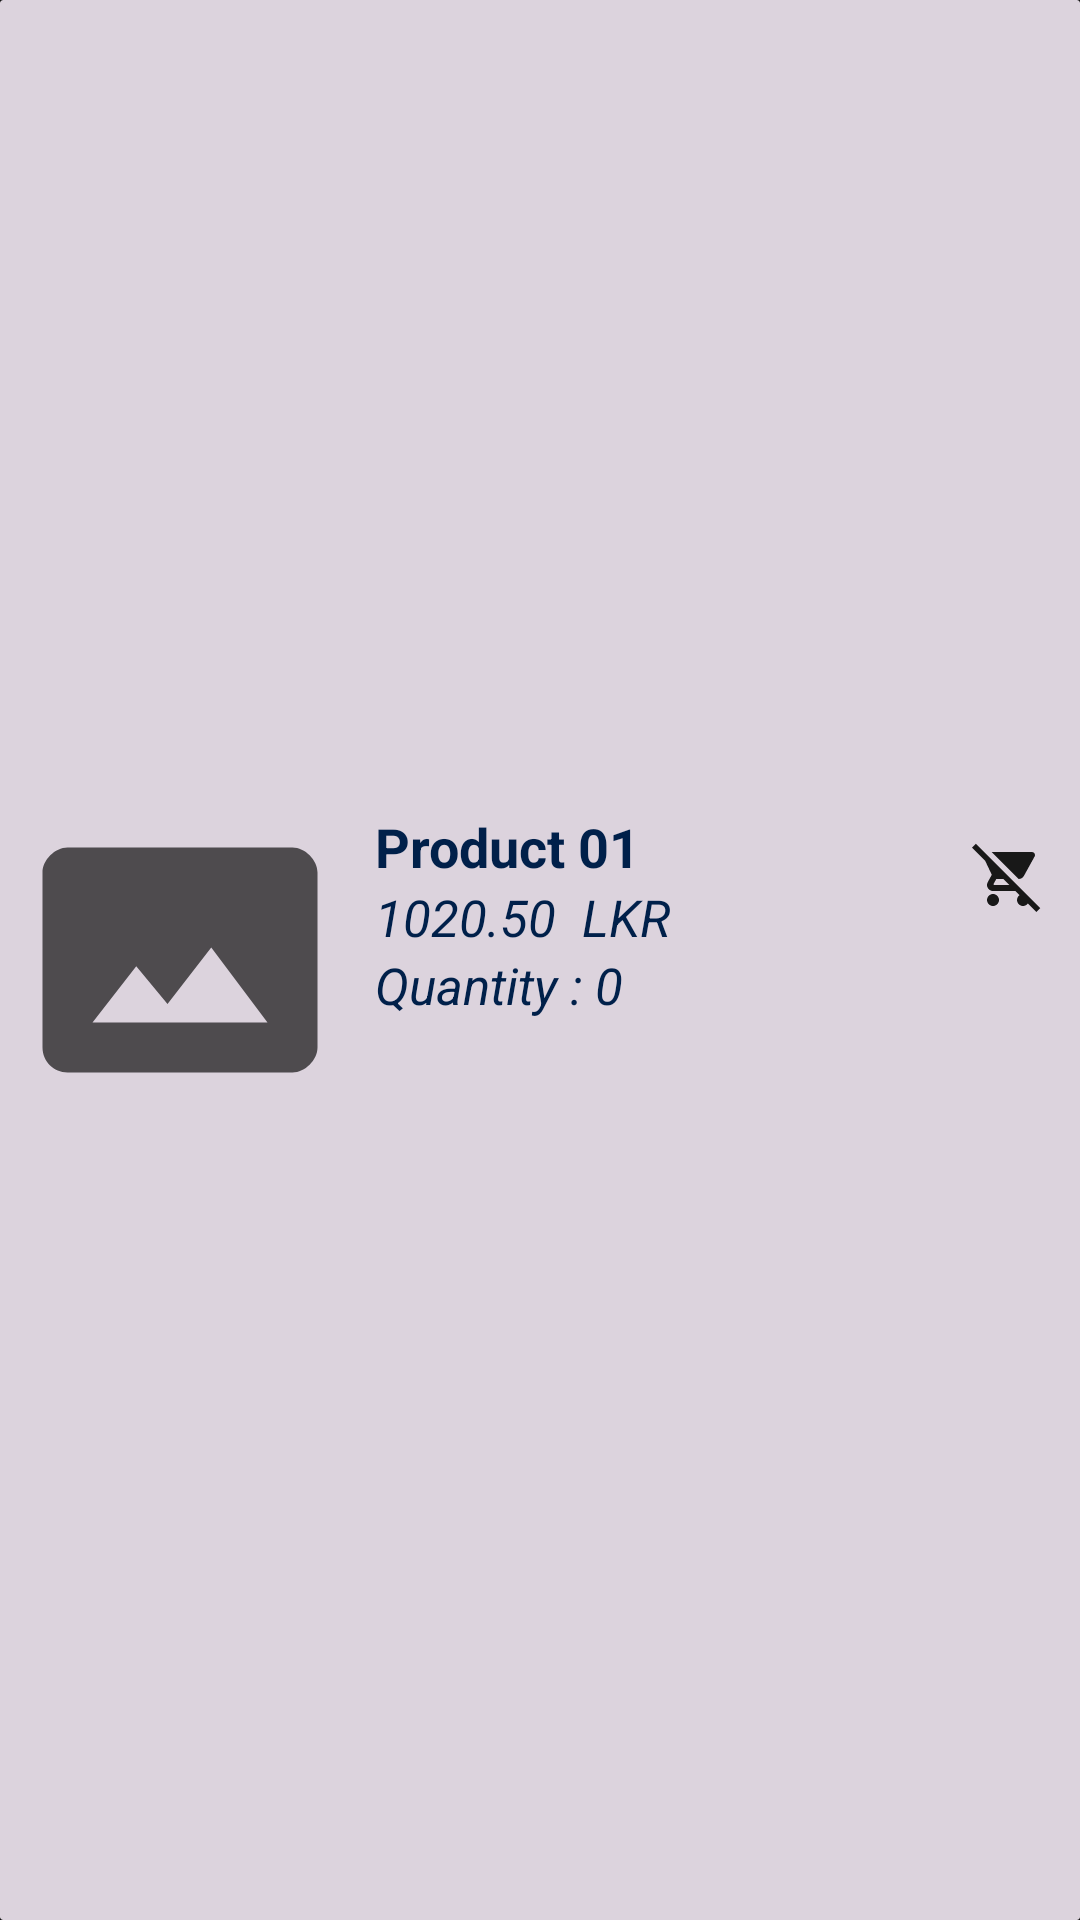

Where icons sit on this 1080x1920 app screen, as (x1, y1, x2, y2):
photo size select actual: (42, 847, 318, 1073)
remove shopping cart: (972, 844, 1040, 912)
